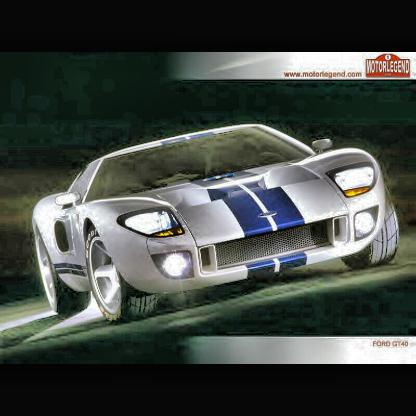Ford GT Coupe 2006: (33, 125, 400, 326)
